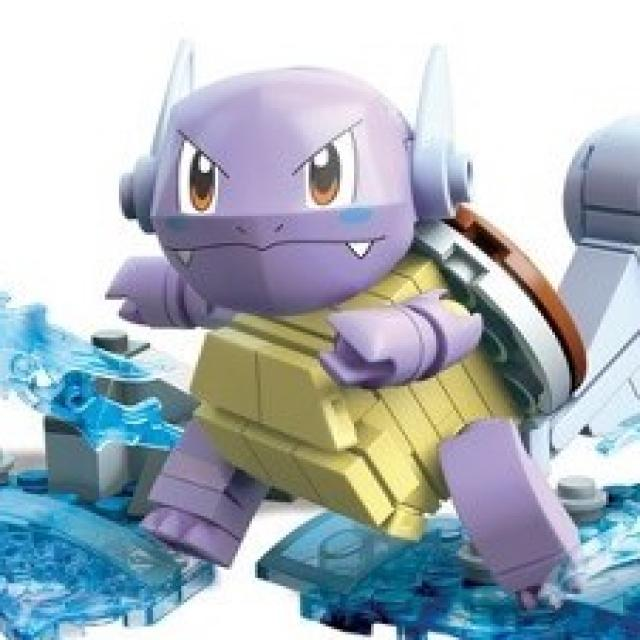Wartortle: (127, 37, 547, 581)
